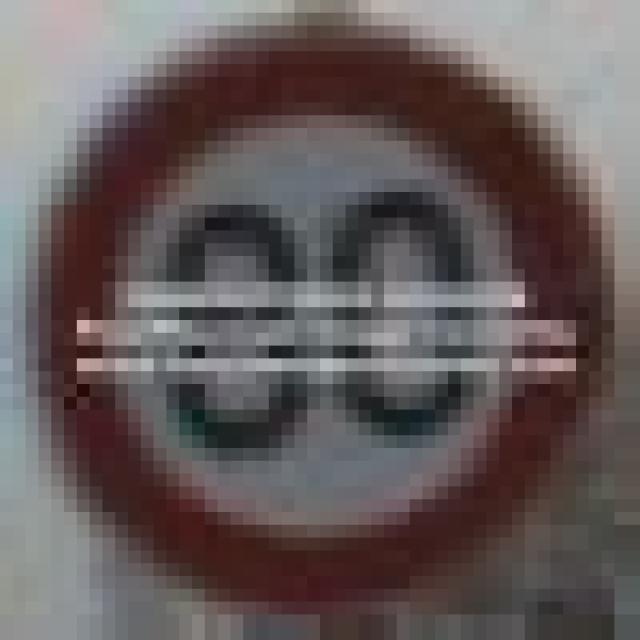speed_limit_50: (39, 26, 602, 563)
